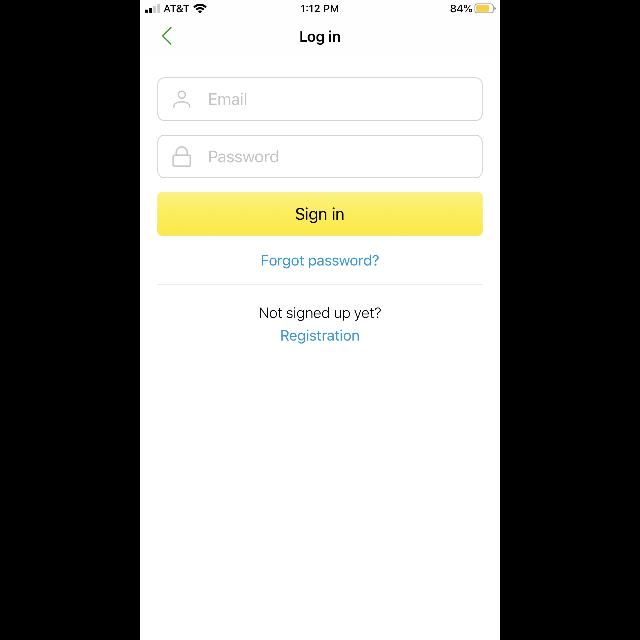icon: (173, 146, 191, 168), (173, 90, 190, 108), (162, 27, 172, 45)
input: (158, 136, 482, 178), (158, 78, 482, 120)
text: (260, 307, 380, 321), (262, 255, 378, 269), (282, 330, 358, 344), (210, 151, 278, 163), (300, 31, 340, 45), (210, 92, 247, 106)
textbutton: (158, 192, 482, 235)
uppertaskbar: (140, 0, 500, 14)
